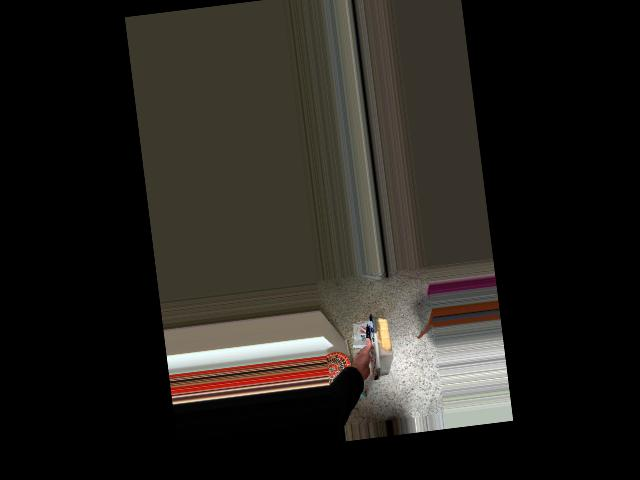cheese: (327, 312, 401, 388)
